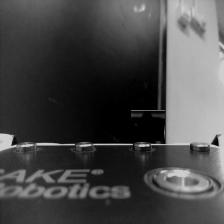Door Handle: (132, 110, 165, 142)
